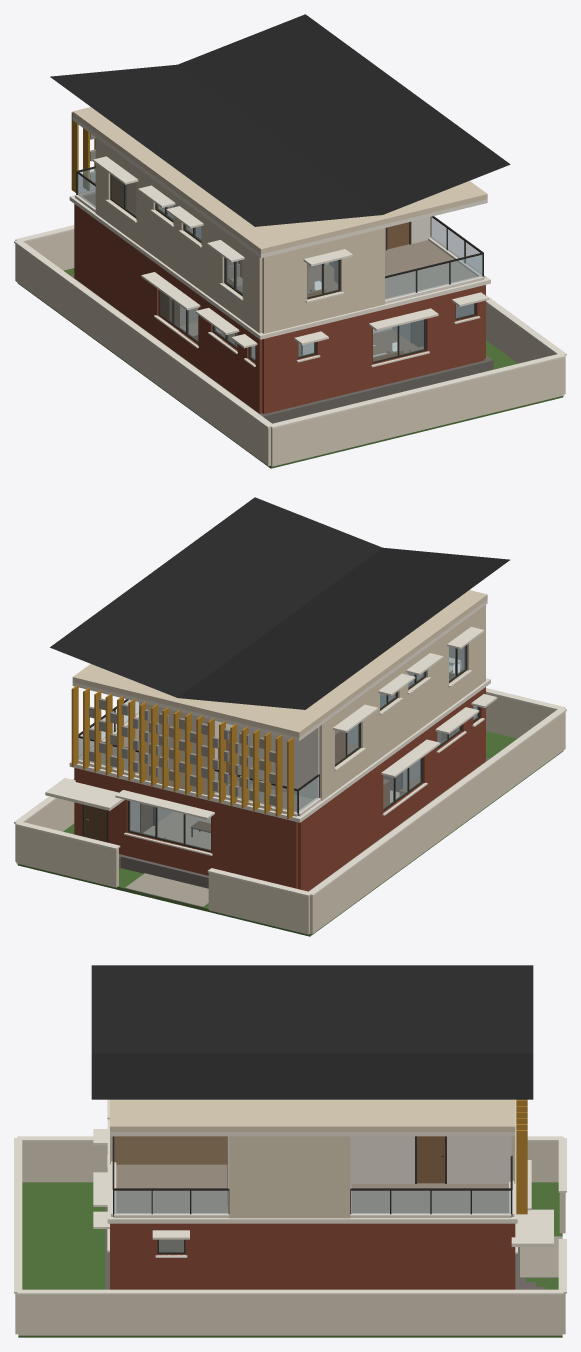
The model's file is house5.glb.
The picture shows the model from 3 angles, top to bottom: view 1: azimuth 30°, elevation 25°; view 2: azimuth 150°, elevation 25°; view 3: azimuth 270°, elevation 25°; orthographic projection. The views are drawn at different scales.
Visible parts, largest first — view 1: roof__dark_metal, level_0__structure__brick, site__compound_wall, level_1__structure__plaster, roof__plaster, level_1__structure__concrete_band, site__concrete_band, level_1__structure__railing_glass, level_1__floors__floor_outdoor, level_0__structure__glass, site__plinth_stone, level_0__structure__concrete_band (+14 smaller); view 2: roof__dark_metal, level_0__structure__brick, site__compound_wall, level_1__facade__exterior_accent, level_1__structure__plaster, roof__plaster, level_1__structure__concrete_band, site__concrete_band, level_1__facade__board_concrete, level_0__structure__glass, level_1__structure__paint_circulation, level_0__structure__concrete_band (+14 smaller); view 3: roof__dark_metal, site__compound_wall, level_0__structure__brick, roof__plaster, site__lawn, level_1__structure__plaster, level_1__floors__floor_outdoor, level_1__structure__railing_glass, level_1__structure__paint_circulation, site__concrete_band, level_1__structure__concrete_band, level_1__structure__accent_wall (+8 smaller).
Boxes of the visible parts, x1,y1,x2,y2 form: roof__dark_metal: [50, 14, 510, 226]; level_0__structure__brick: [74, 204, 485, 413]; site__compound_wall: [15, 230, 565, 466]; level_1__structure__plaster: [95, 137, 431, 333]; roof__plaster: [72, 107, 487, 254]; level_1__structure__concrete_band: [69, 156, 490, 339]; site__concrete_band: [14, 225, 566, 428]; level_1__structure__railing_glass: [77, 168, 482, 299]; level_1__floors__floor_outdoor: [83, 194, 477, 298]; level_0__structure__glass: [160, 291, 474, 361]; site__plinth_stone: [70, 274, 493, 423]; level_0__structure__concrete_band: [141, 272, 488, 348]; roof__dark_metal: [50, 497, 510, 709]; level_0__structure__brick: [74, 687, 485, 891]; site__compound_wall: [15, 693, 565, 934]; level_1__facade__exterior_accent: [71, 685, 293, 819]; level_1__structure__plaster: [139, 605, 485, 800]; roof__plaster: [72, 590, 487, 737]; level_1__structure__concrete_band: [69, 627, 490, 822]; site__concrete_band: [14, 688, 566, 896]; level_1__facade__board_concrete: [89, 698, 275, 805]; level_0__structure__glass: [130, 706, 477, 850]; level_1__structure__paint_circulation: [214, 721, 319, 799]; level_0__structure__concrete_band: [115, 694, 497, 819]; roof__dark_metal: [91, 965, 533, 1099]; site__compound_wall: [15, 1141, 565, 1335]; level_0__structure__brick: [110, 1223, 515, 1289]; roof__plaster: [110, 1099, 515, 1131]; site__lawn: [18, 1182, 562, 1337]; level_1__structure__plaster: [110, 1136, 515, 1218]; level_1__floors__floor_outdoor: [116, 1164, 508, 1212]; level_1__structure__railing_glass: [114, 1190, 510, 1213]; level_1__structure__paint_circulation: [227, 1136, 511, 1213]; site__concrete_band: [14, 1136, 566, 1294]; level_1__structure__concrete_band: [107, 1099, 517, 1223]; level_1__structure__accent_wall: [113, 1136, 227, 1164].
Size of the model in its own units: 12.28 by 8.33 by 18.28.
